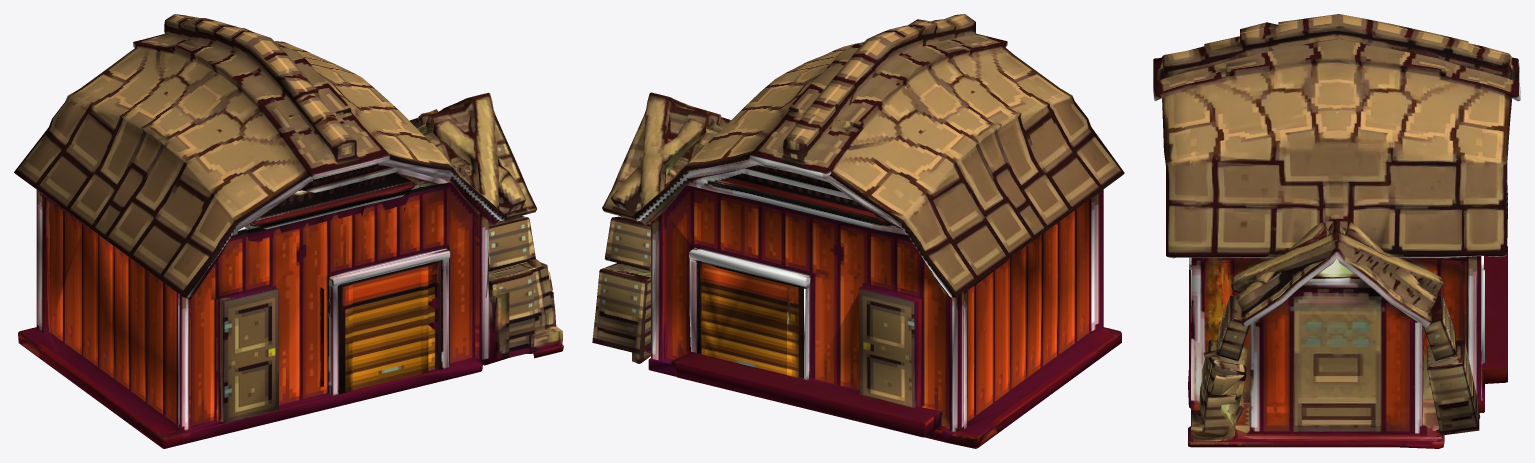
Rendered from barn.glb.
The picture shows the model from 3 angles, left to right: view 1: azimuth 30°, elevation 25°; view 2: azimuth 150°, elevation 25°; view 3: azimuth 270°, elevation 25°; orthographic projection.
Size of the model in its own units: 1.91 by 1.44 by 1.5.
1 material, 1 textured.
